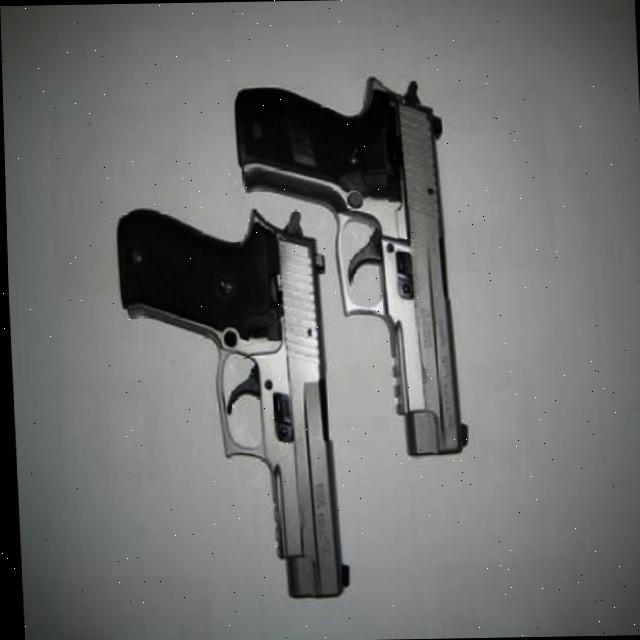gun: (115, 204, 348, 600), (231, 72, 469, 458)
